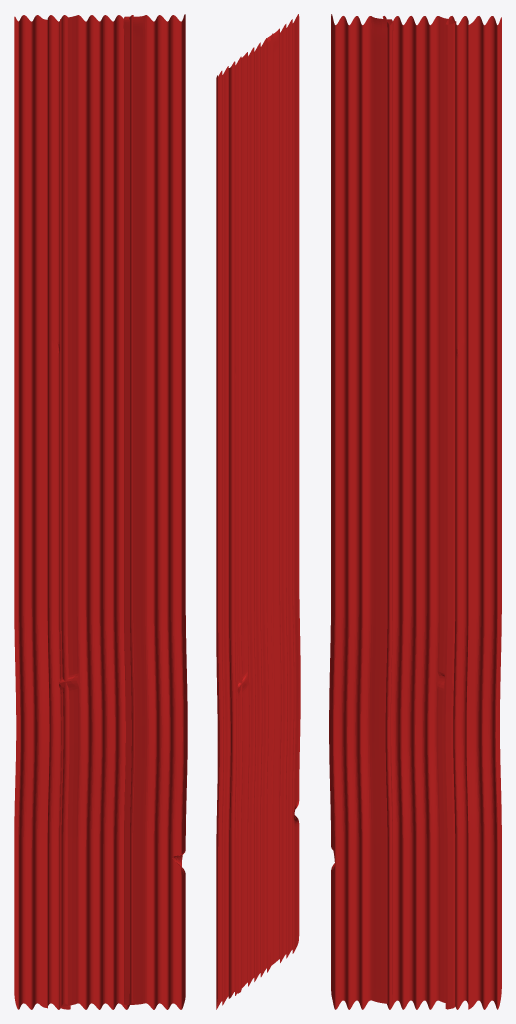
The model's file is Telon.fbx.
The picture shows the model from 3 angles, left to right: view 1: azimuth 90°, elevation 25°; view 2: azimuth 150°, elevation 25°; view 3: azimuth 270°, elevation 25°; orthographic projection. The views are drawn at different scales.
Parts seen in each view (by area): view 1: Plane; view 2: Plane; view 3: Plane.
Part boxes in pixels (x1,y1,x2,y2): Plane: (14, 14, 187, 1009); Plane: (216, 14, 300, 1009); Plane: (329, 14, 501, 1009).
Bounding box in the file's own units: 8.79 × 1247 × 196.
